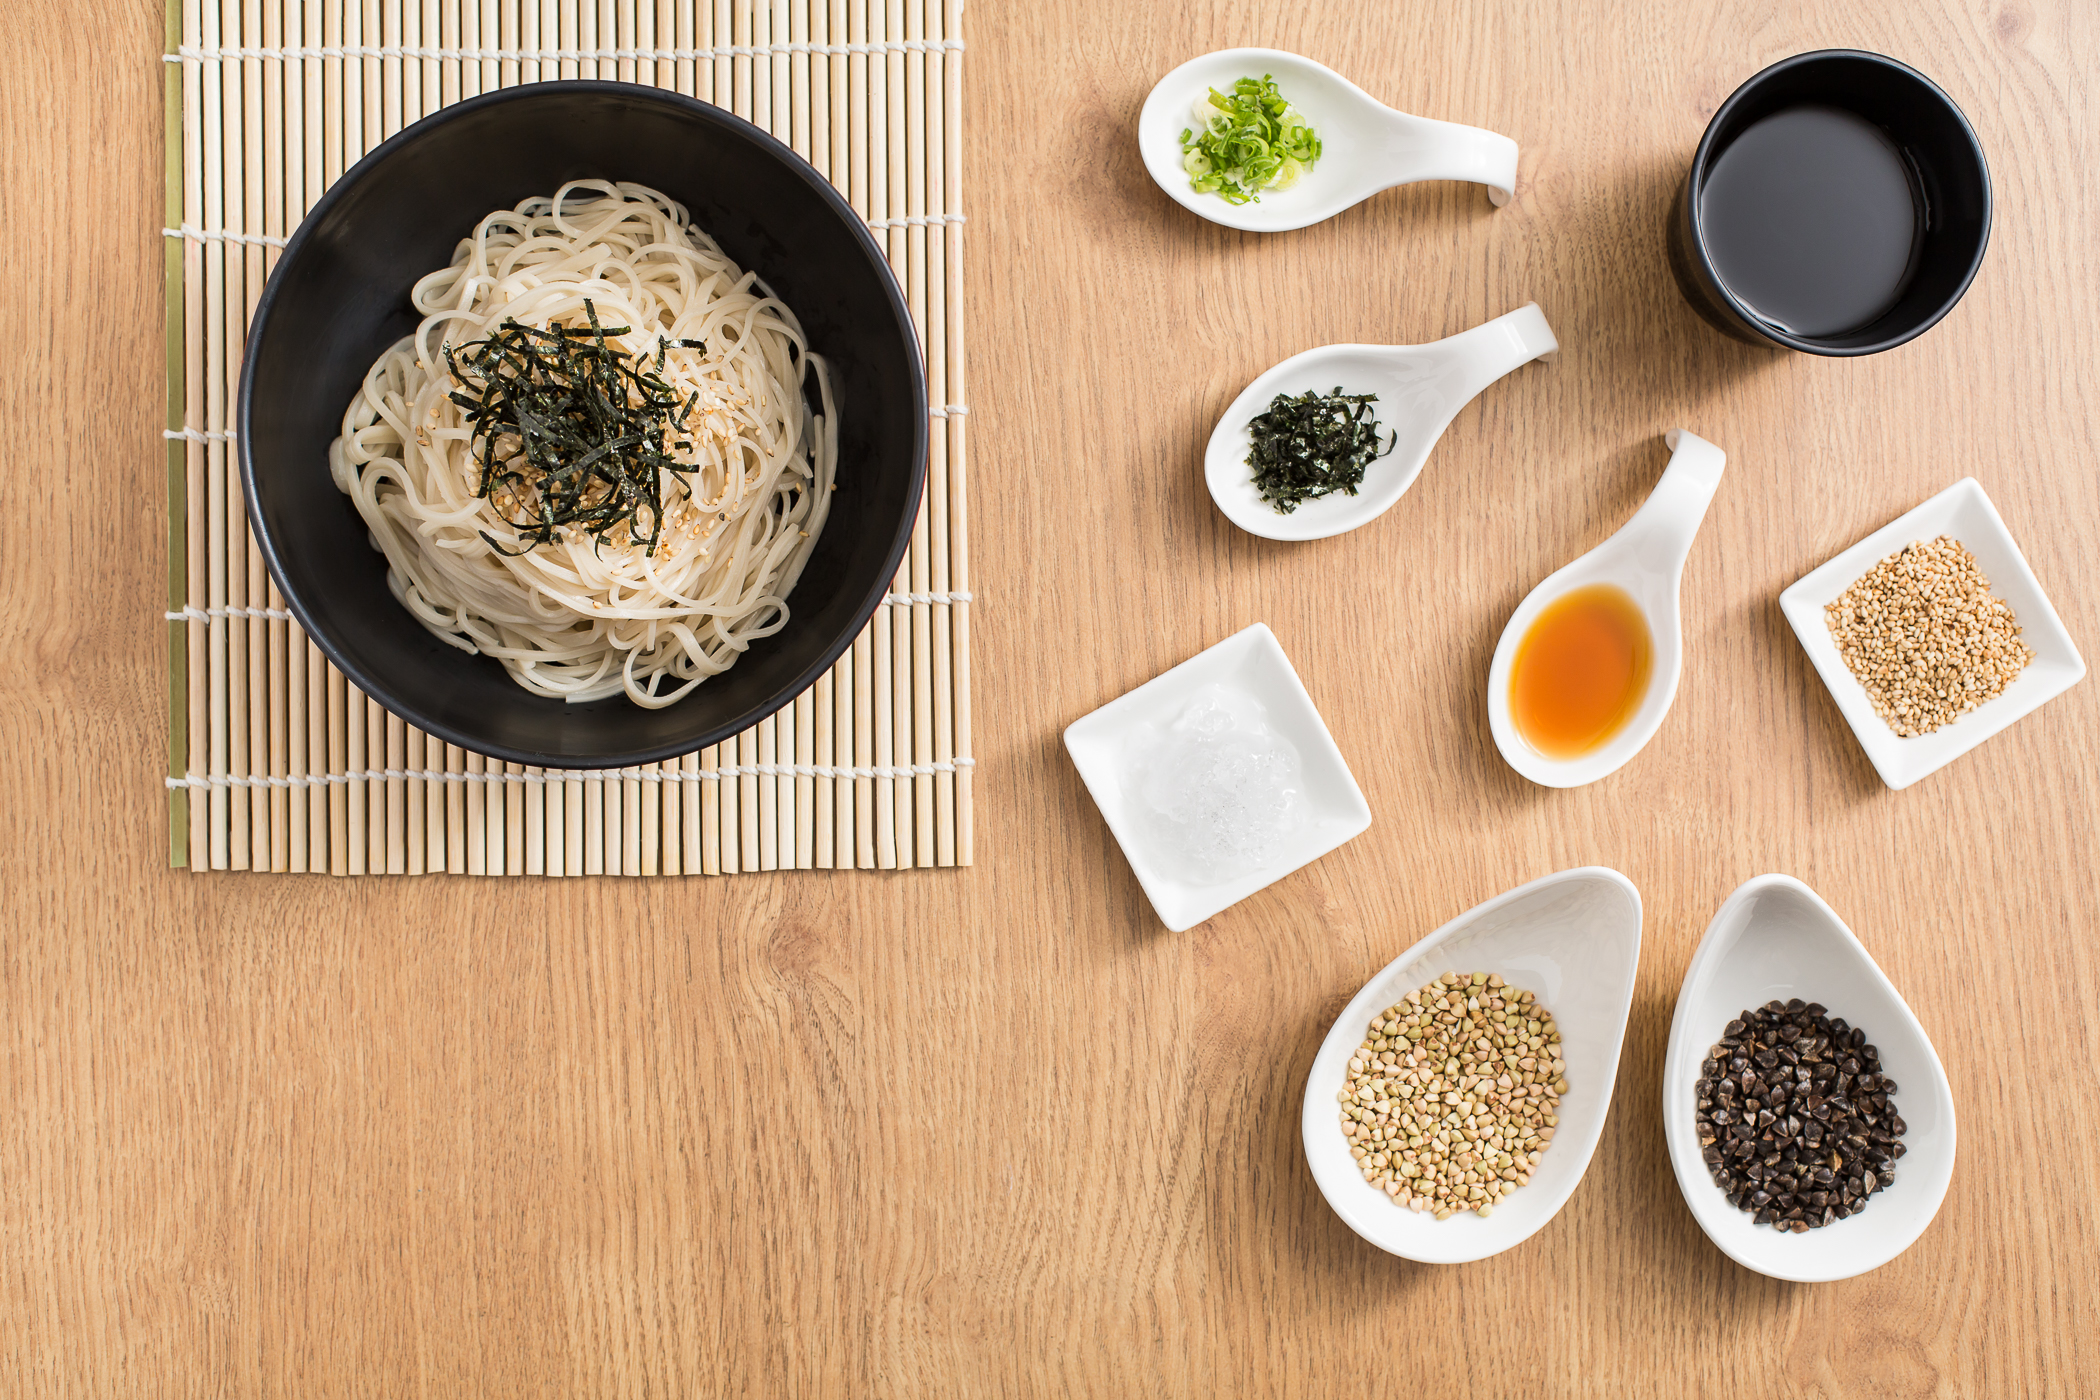Soba: (330, 167, 834, 723)
